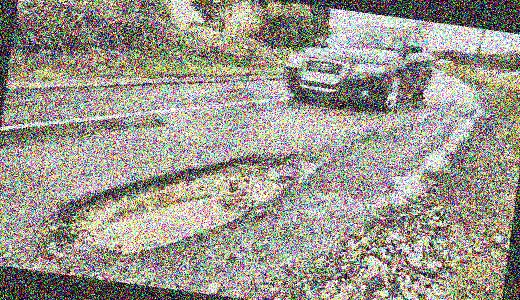pothole: (51, 123, 322, 278)
